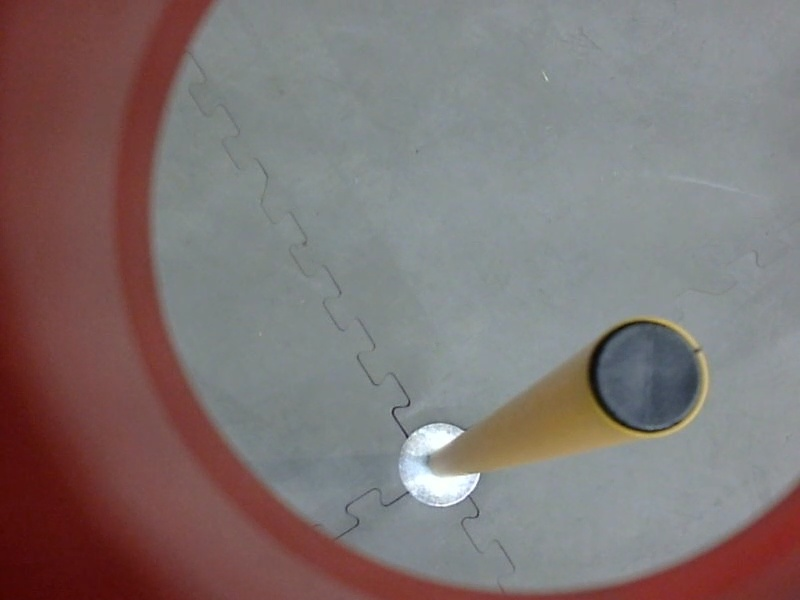tip: (577, 306, 719, 448)
